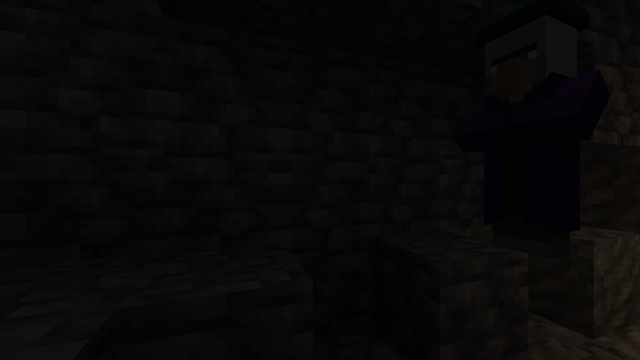sorcieres: (472, 2, 593, 263)
